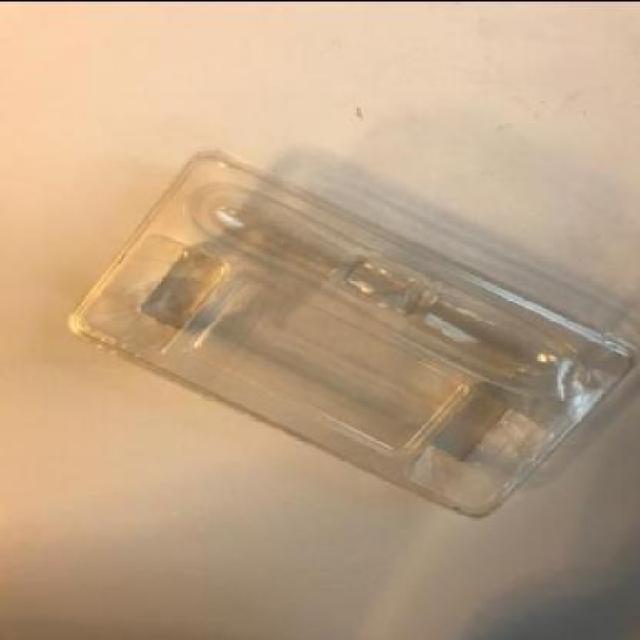PLASTIC: (69, 148, 633, 514)
